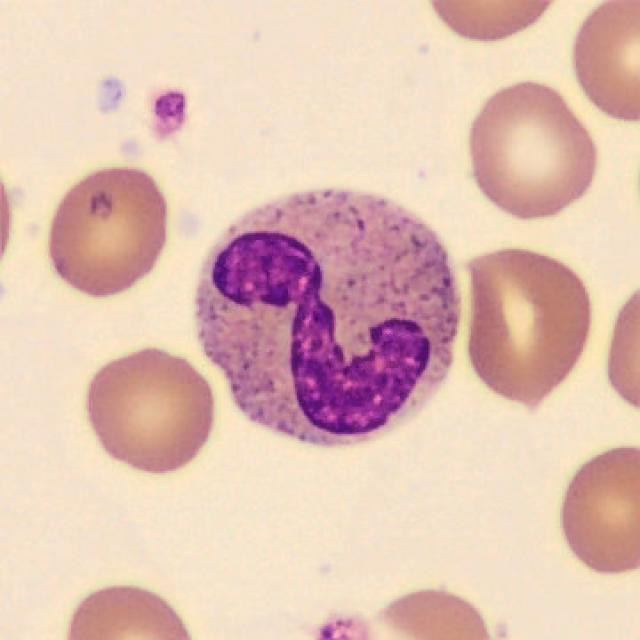Neutrofilo segmentado: (194, 188, 460, 450)
